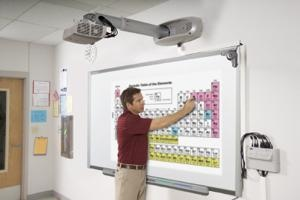person without safety: (113, 86, 151, 199)
